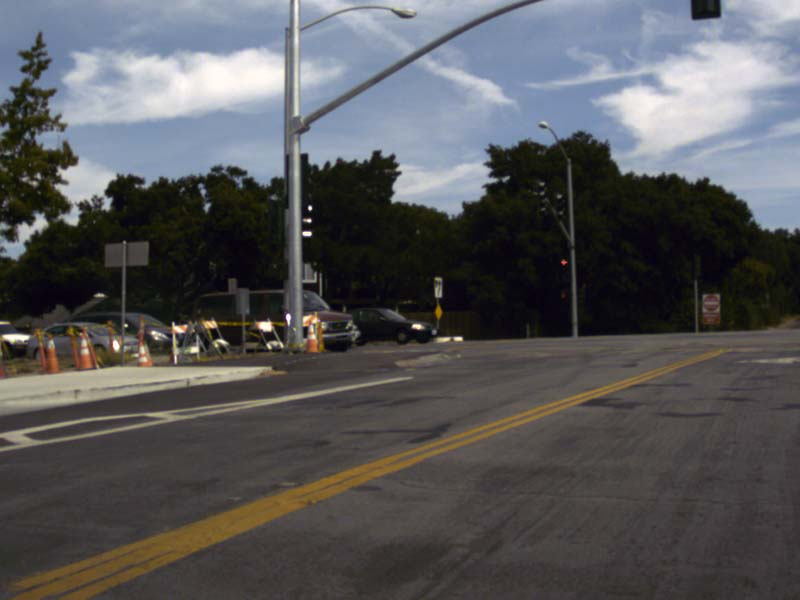Red: (558, 256, 568, 277)
